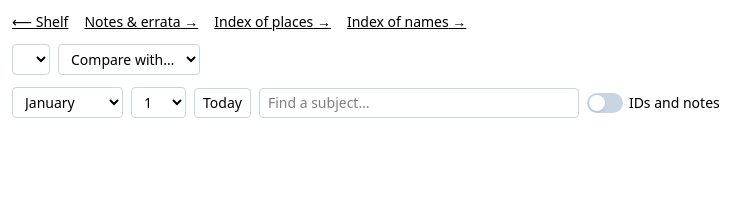
it: ReaderBar's subject search › picks the highlighted suggestion on Enter and clears the box
Type "viet" into the dropdown named "Find a eulogy by subject" at (419, 102), box x1=259 y1=88 x2=579 y2=118
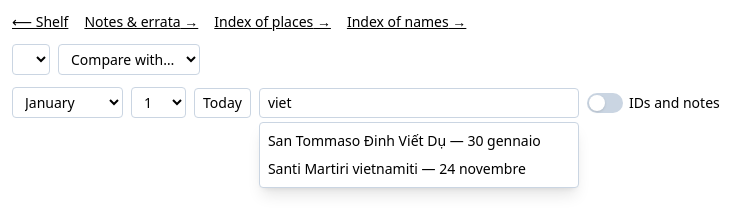
Press ArrowDown in the 5th dropdown named "Find a eulogy by subject", box x1=259 y1=88 x2=579 y2=118
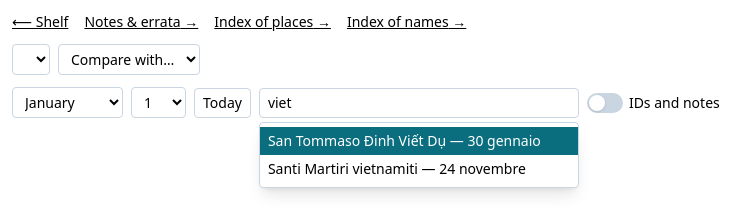
Press ArrowDown in the 5th dropdown named "Find a eulogy by subject", box x1=259 y1=88 x2=579 y2=118
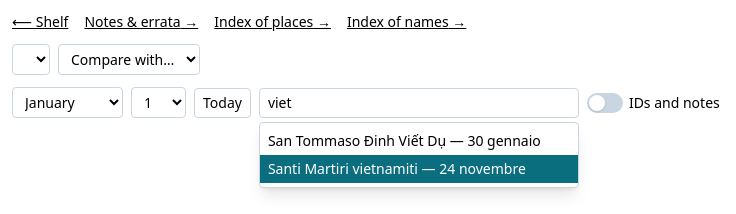
Press Enter in the 5th dropdown named "Find a eulogy by subject", box x1=259 y1=88 x2=579 y2=118
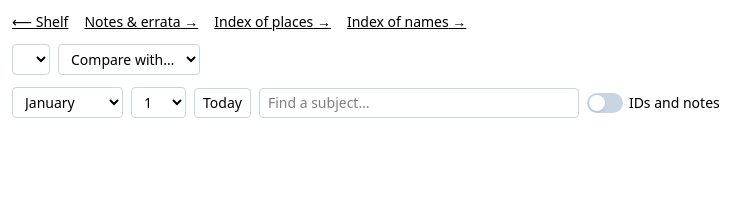
expect the dropdown named "Find a eulogy by subject" is empty: met, box x1=259 y1=88 x2=579 y2=118
expect the dropdown named "Find a eulogy by subject" is collapsed: met, box x1=259 y1=88 x2=579 y2=118
